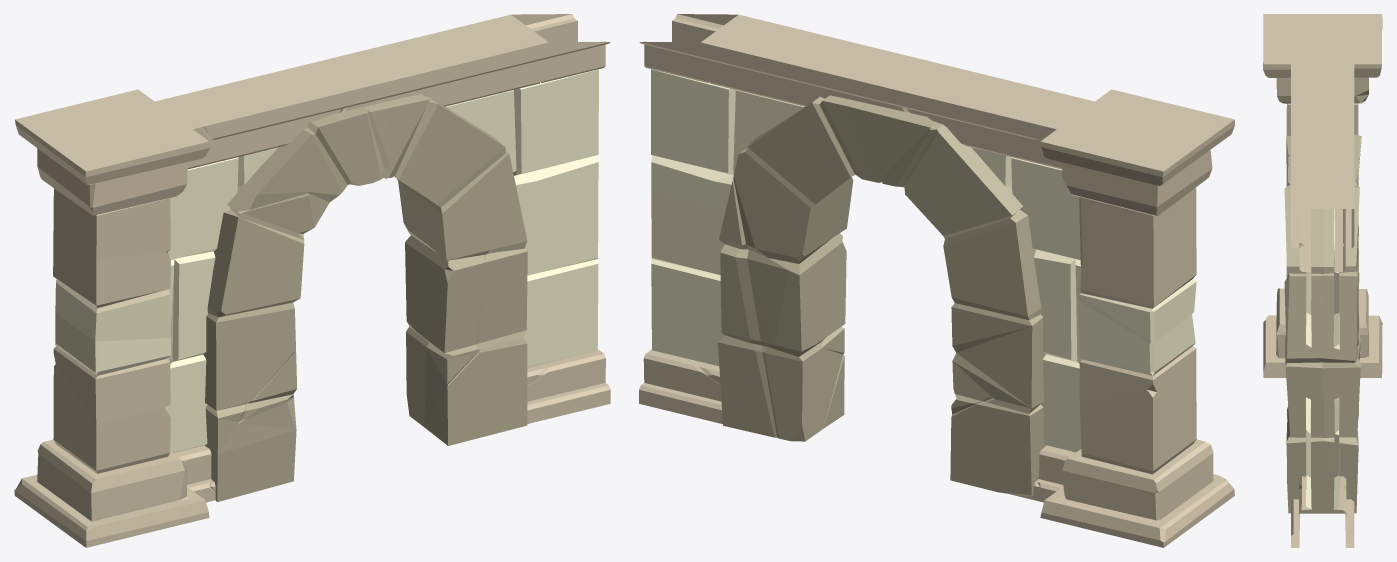
File: SM_SM_Dooe_02.003.fbx
The picture shows the model from 3 angles, left to right: view 1: azimuth 30°, elevation 25°; view 2: azimuth 150°, elevation 25°; view 3: azimuth 270°, elevation 25°; orthographic projection. The views are drawn at different scales.
Parts seen in each view (by area): view 1: SM_Dooe_02.003; view 2: SM_Dooe_02.003; view 3: SM_Dooe_02.003.
Part boxes in pixels (x1,y1,x2,y2): SM_Dooe_02.003: [14, 14, 610, 547]; SM_Dooe_02.003: [639, 14, 1234, 547]; SM_Dooe_02.003: [1263, 14, 1382, 547].
Bounding box in the file's own units: 452 × 301 × 104.
